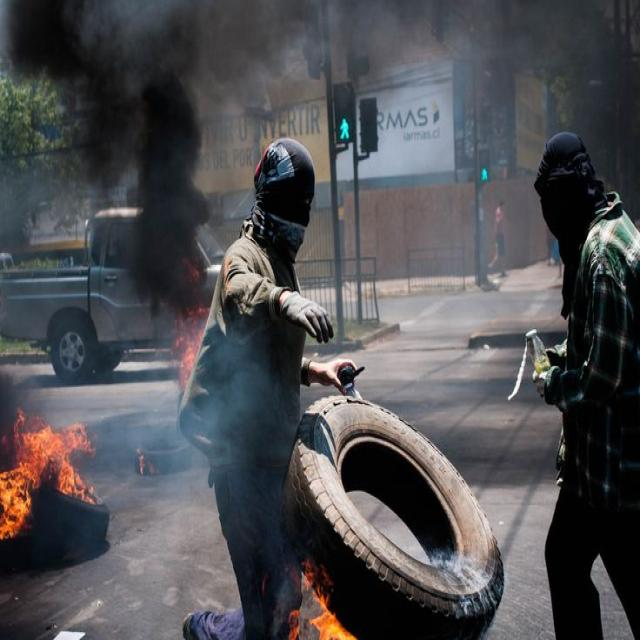fire: (29, 419, 95, 505), (1, 408, 31, 540), (178, 304, 210, 390), (311, 592, 357, 640)
